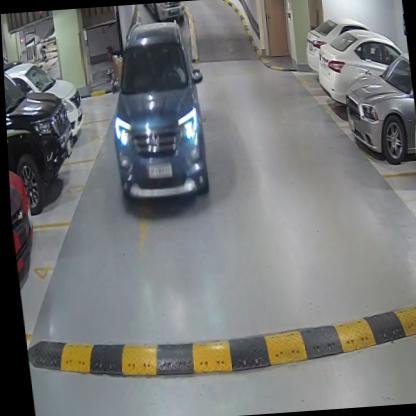np: (144, 161, 171, 183)
